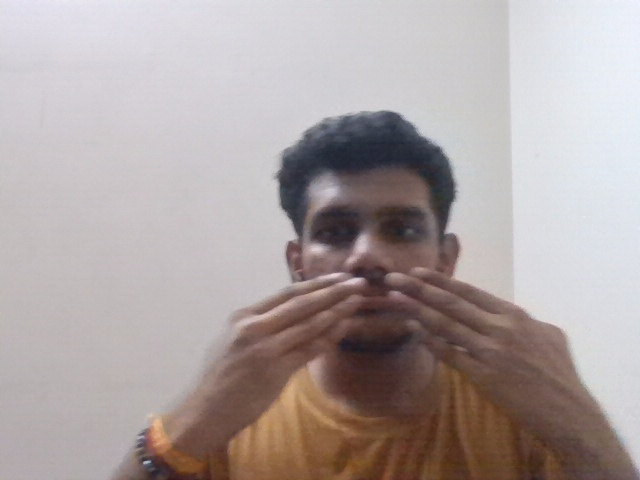thanks: (193, 269, 591, 429)
